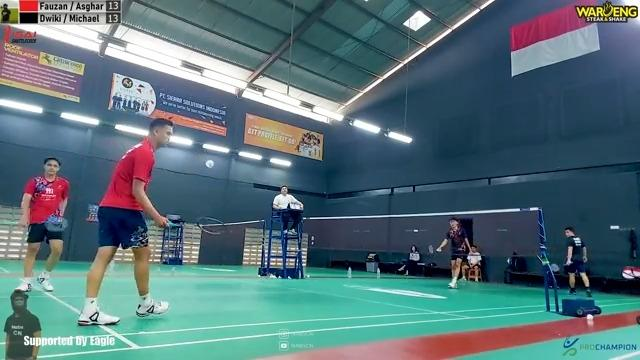Shuttlecock: (204, 157, 216, 171)
